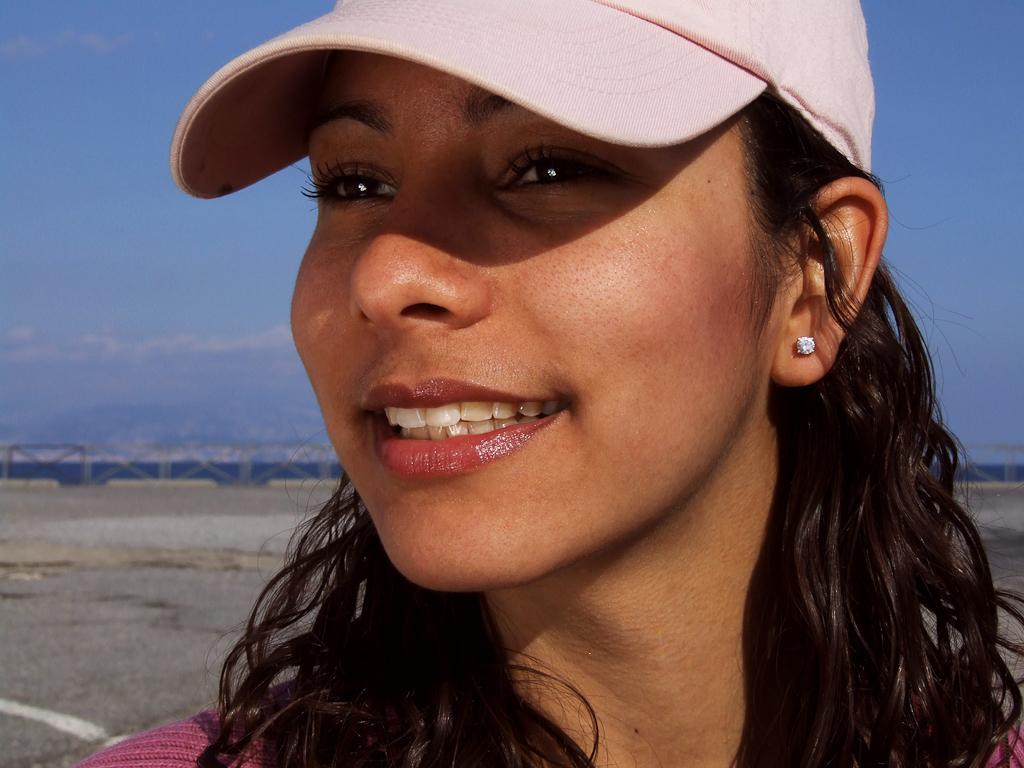Hat: (168, 0, 874, 202)
